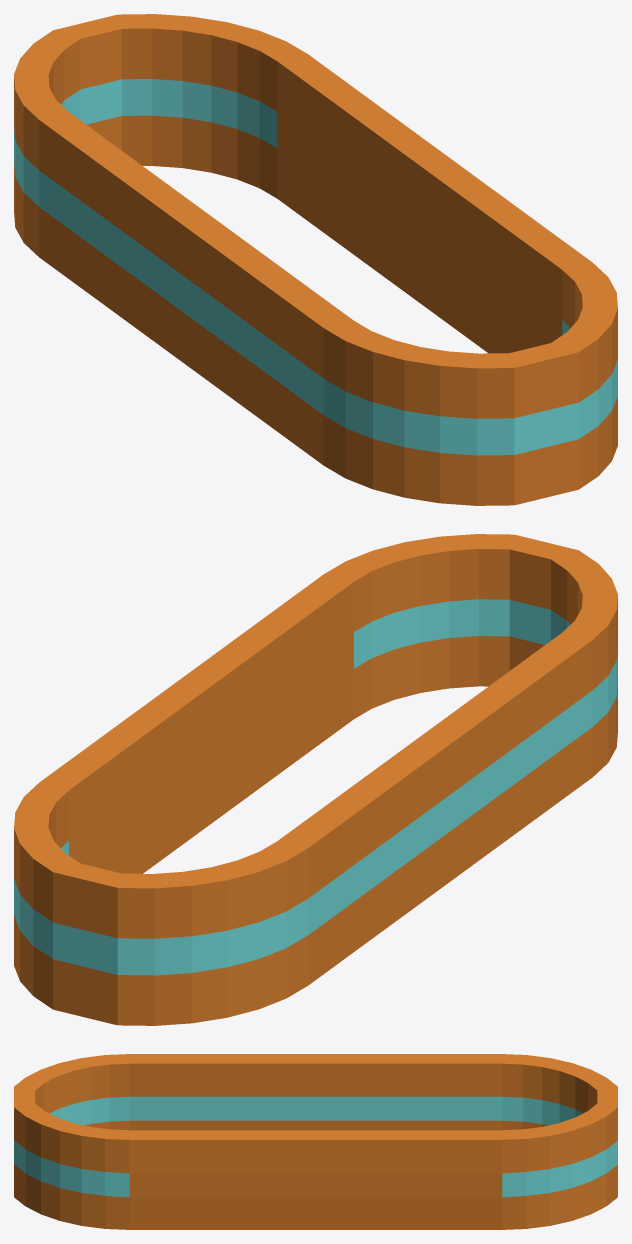
File: bench.fbx
3 renders of one model, top to bottom at view 1: azimuth 30°, elevation 25°; view 2: azimuth 150°, elevation 25°; view 3: azimuth 270°, elevation 25°, orthographic. The views are drawn at different scales.
Visible parts, largest first — view 1: Circle; view 2: Circle; view 3: Circle.
Boxes of the visible parts, x1=… form: Circle: x1=14, y1=14, x2=617, y2=505; Circle: x1=14, y1=534, x2=617, y2=1025; Circle: x1=14, y1=1054, x2=617, y2=1229.
Size of the model in its own units: 163 by 79.36 by 483.
